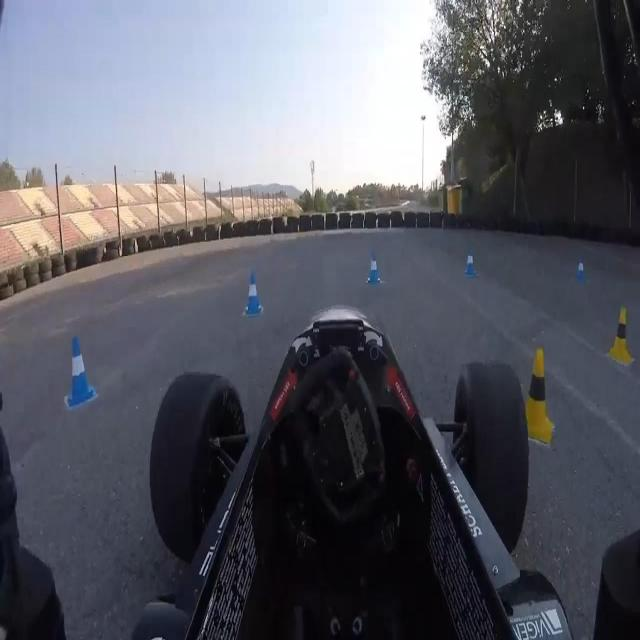blue_cone: (61, 332, 97, 408), (239, 270, 263, 319), (362, 246, 383, 286), (461, 248, 478, 282), (573, 252, 585, 286)
yellow_cone: (518, 347, 554, 441), (606, 304, 634, 370)
